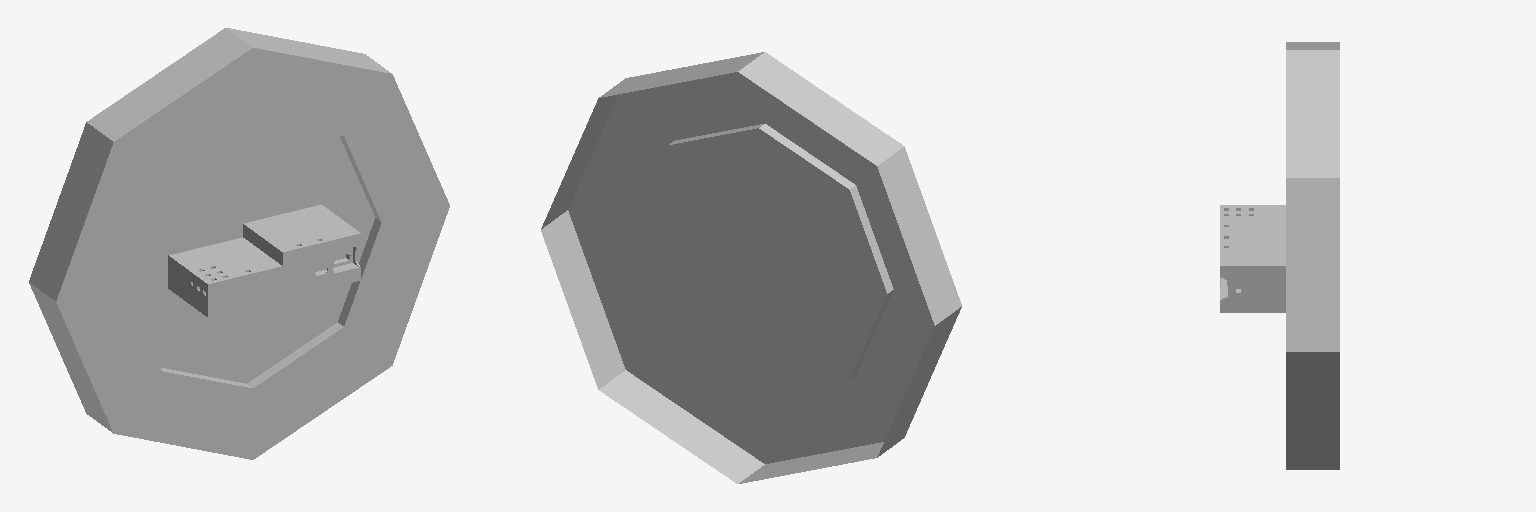
The model's file is debug_0004_dec.obj.
3 renders of one model, left to right at view 1: azimuth 30°, elevation 25°; view 2: azimuth 150°, elevation 25°; view 3: azimuth 270°, elevation 25°, orthographic.
Parts seen in each view (by area): view 1: Cube.012_Cube.020; view 2: Cube.012_Cube.020; view 3: Cube.012_Cube.020.
Part boxes in pixels (left/top/right/bottom): Cube.012_Cube.020: left=29, top=28, right=449, bottom=459; Cube.012_Cube.020: left=541, top=52, right=961, bottom=483; Cube.012_Cube.020: left=1220, top=42, right=1339, bottom=469.
Bounding box in the file's own units: 2347 × 2347 × 624.